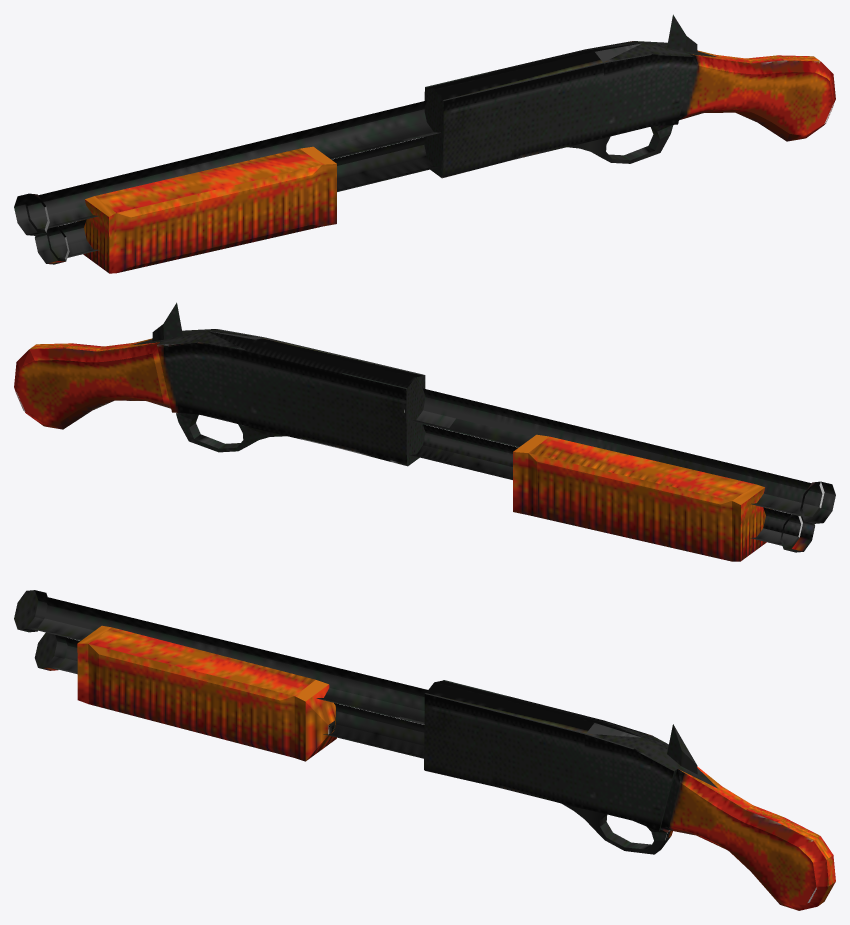
File: Shotgun.fbx
The picture shows the model from 3 angles, top to bottom: view 1: azimuth 30°, elevation 25°; view 2: azimuth 150°, elevation 25°; view 3: azimuth 330°, elevation 25°; orthographic projection.
Parts seen in each view (by area): view 1: Cube, Cylinder; view 2: Cube, Cylinder; view 3: Cube, Cylinder.
Part boxes in pixels (box(x1,y1,x2,y2)): Cube: box(79, 14, 835, 273); Cylinder: box(14, 100, 445, 264); Cube: box(14, 302, 770, 561); Cylinder: box(404, 388, 835, 552); Cube: box(77, 625, 835, 910); Cylinder: box(14, 590, 427, 758).
Size of the model in its own units: 256 by 46.45 by 17.38.
2 materials, 2 textured.
